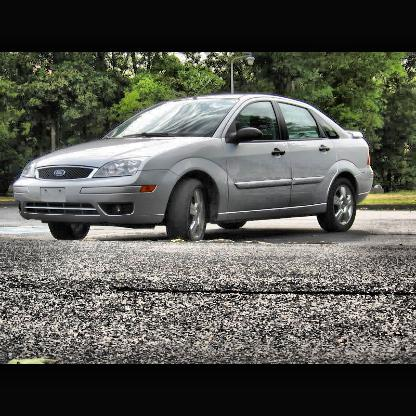Ford Focus Sedan 2007: (13, 94, 377, 244)
